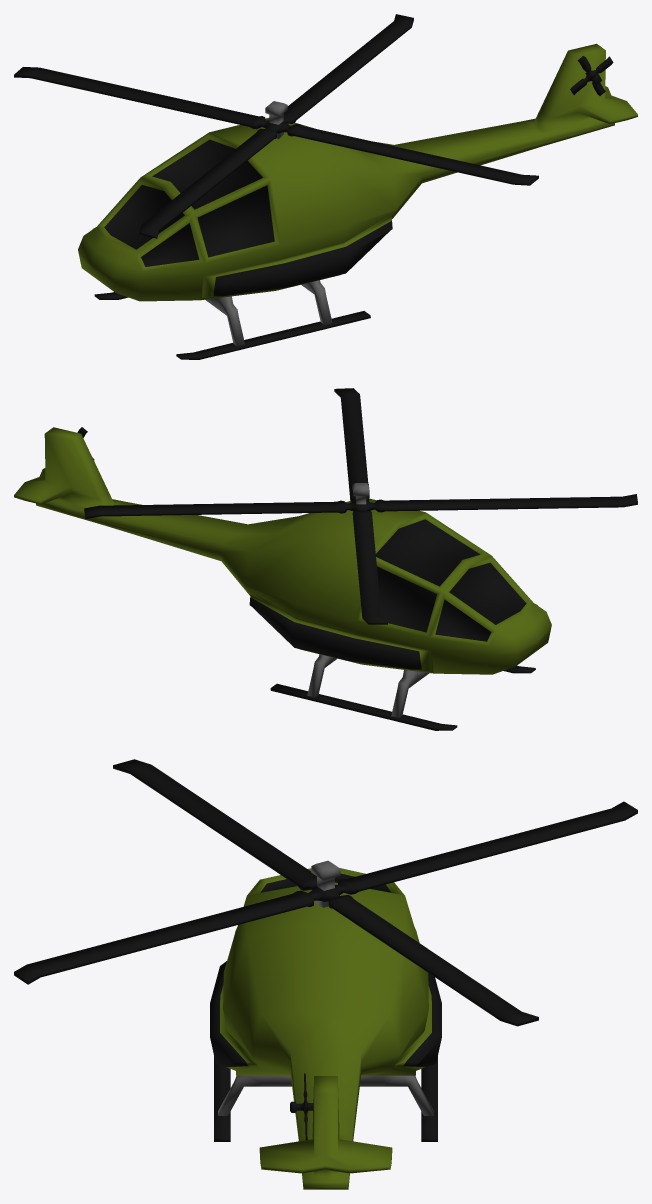
The model's file is Helicopter.fbx.
3 renders of one model, top to bottom at view 1: azimuth 30°, elevation 25°; view 2: azimuth 150°, elevation 25°; view 3: azimuth 270°, elevation 25°, orthographic. The views are drawn at different scales.
Visible parts, largest first — view 1: Helicopter; view 2: Helicopter; view 3: Helicopter.
Boxes of the visible parts, x1,y1,x2,y2 form: Helicopter: (14, 14, 637, 359); Helicopter: (14, 388, 637, 730); Helicopter: (14, 759, 637, 1189).
Size of the model in its own units: 1345 by 450 by 1034.
